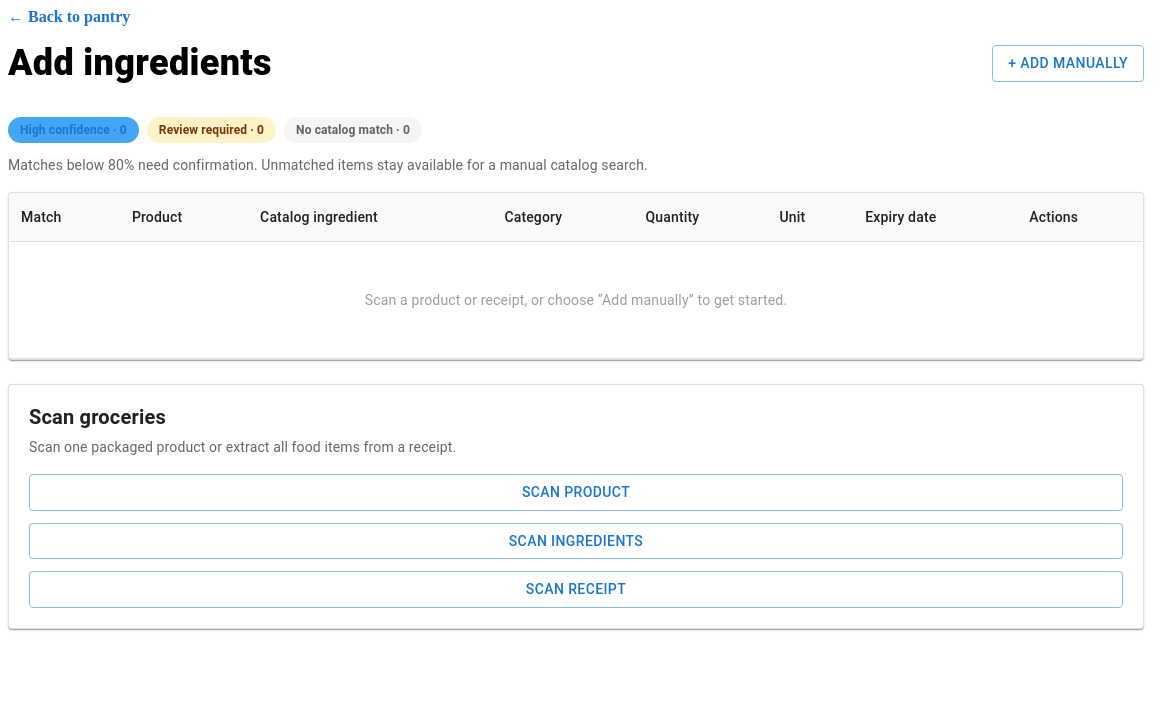
pantry ingredient review › supports manual catalog selection and keeps failed additions available for retry
Click the button "+ Add manually" at point(1068, 64), box [992,45,1144,82]
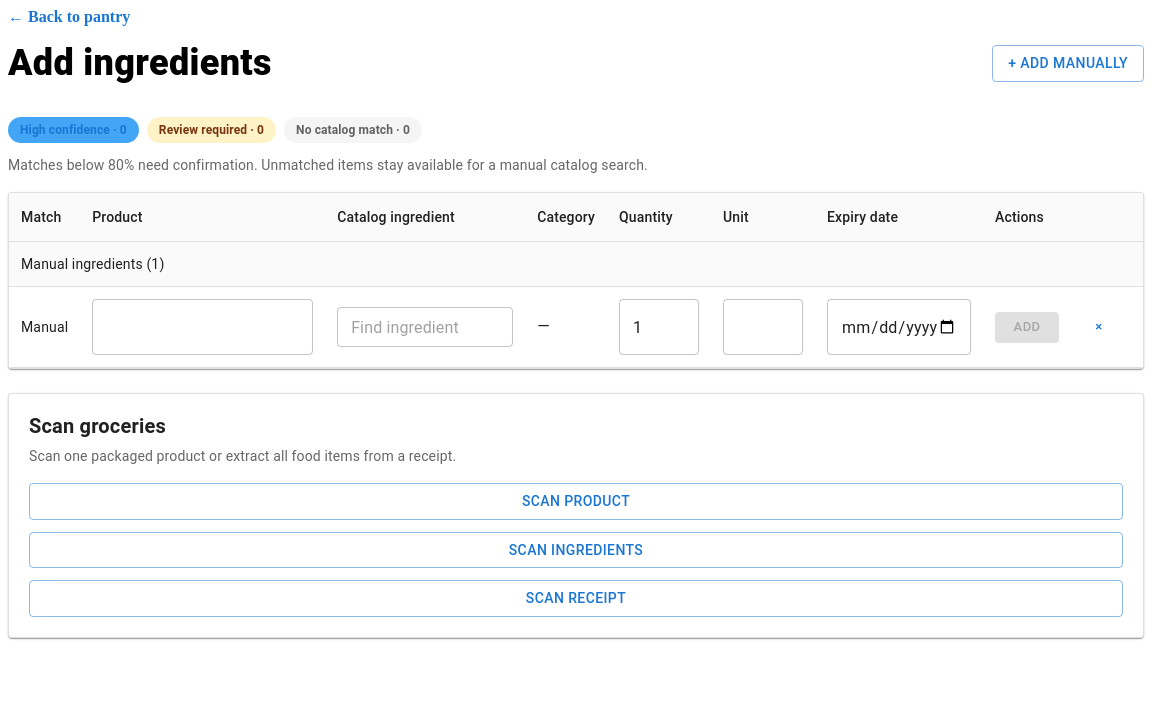
Type "Milk" into the dropdown at point(424, 327), box [343,313,504,341]
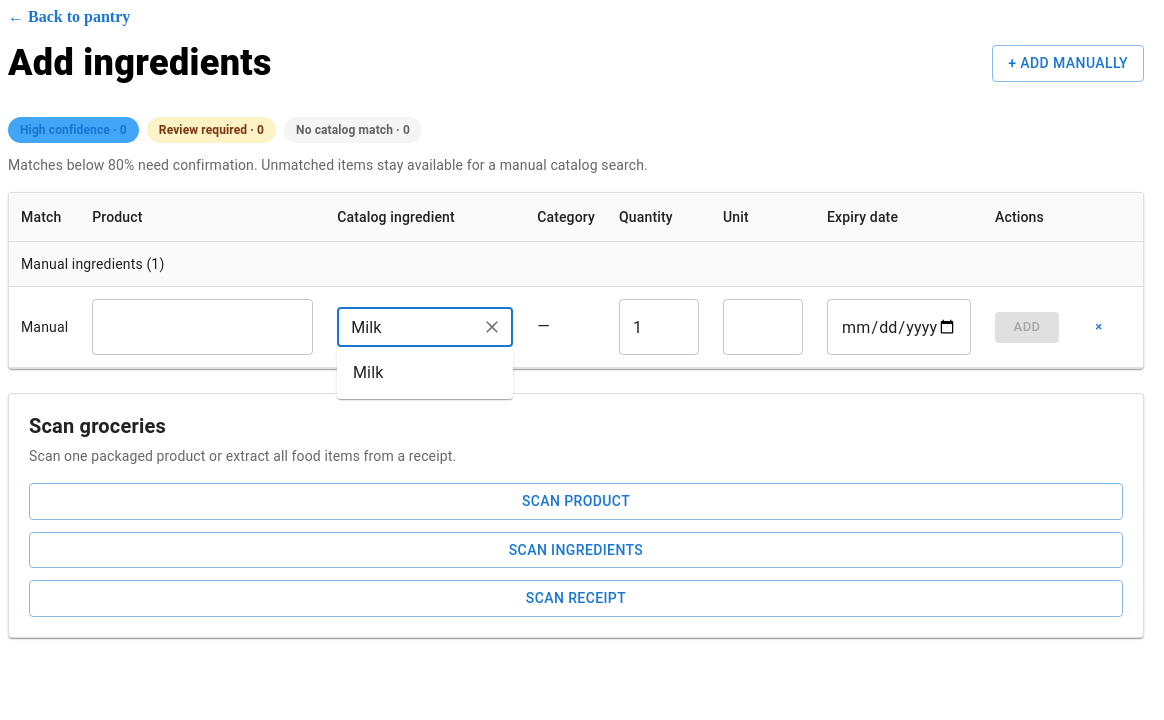
Now the option "Milk" is shown, box [353,363,384,382]
Press Enter
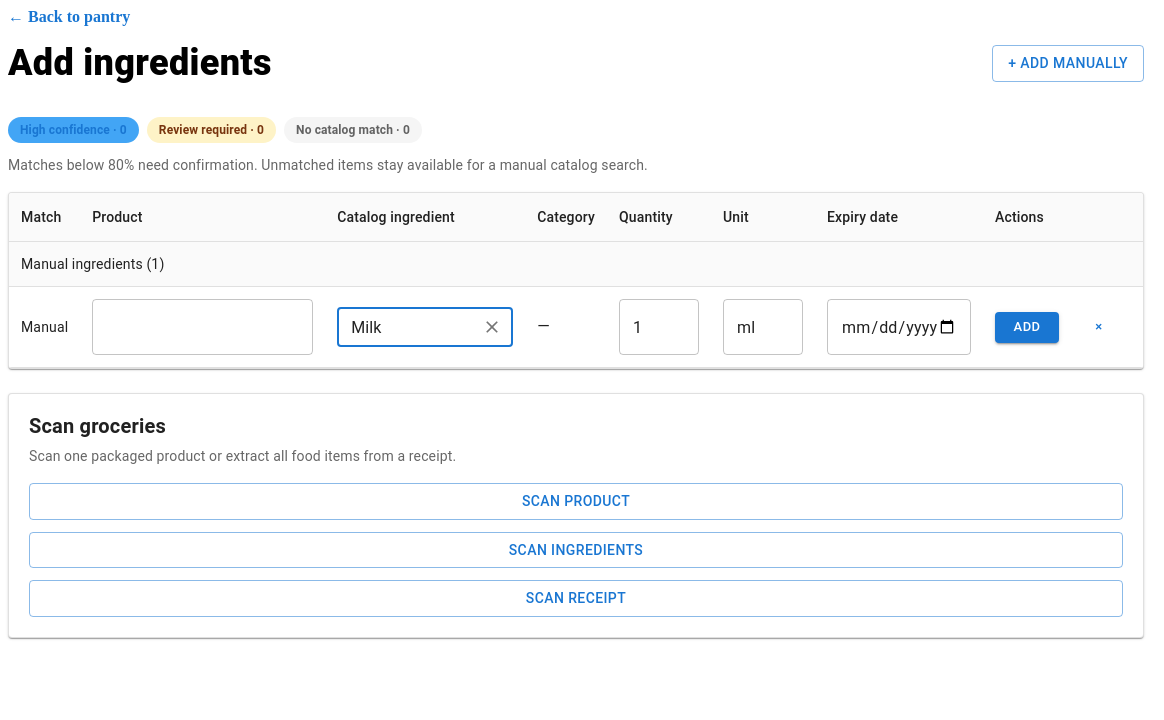
Now the field named "Unit" holds "ml", box [723,299,803,355]
Click the button "Add" at point(1027, 327), box [995,312,1059,343]
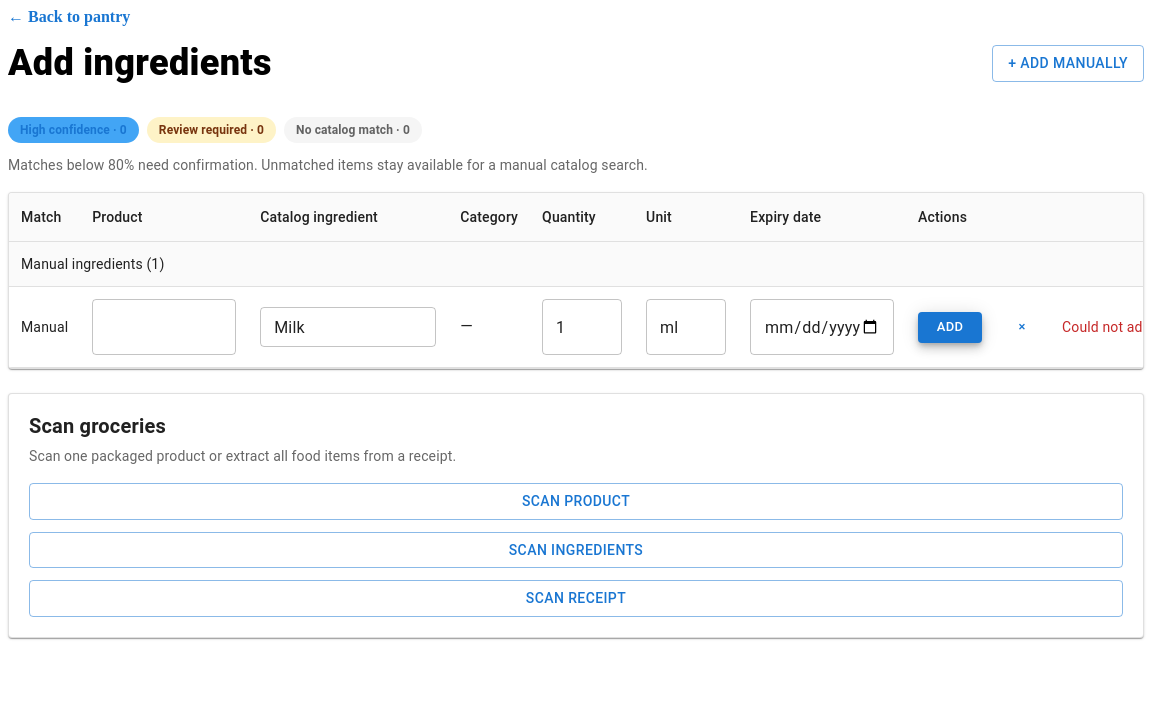
Now the message shows "Could not add", box [1062,319,1143,335]
Click the button "Add" at point(950, 327), box [918,312,982,343]
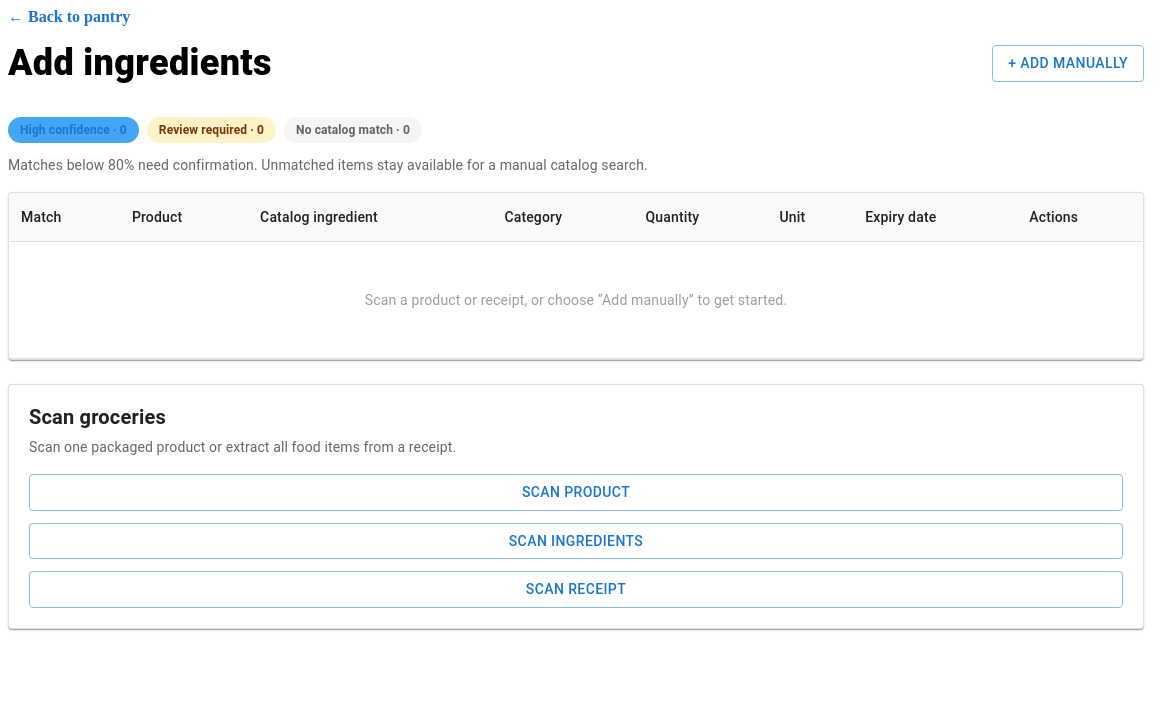
Now the column heading "Manual ingredient" is gone
